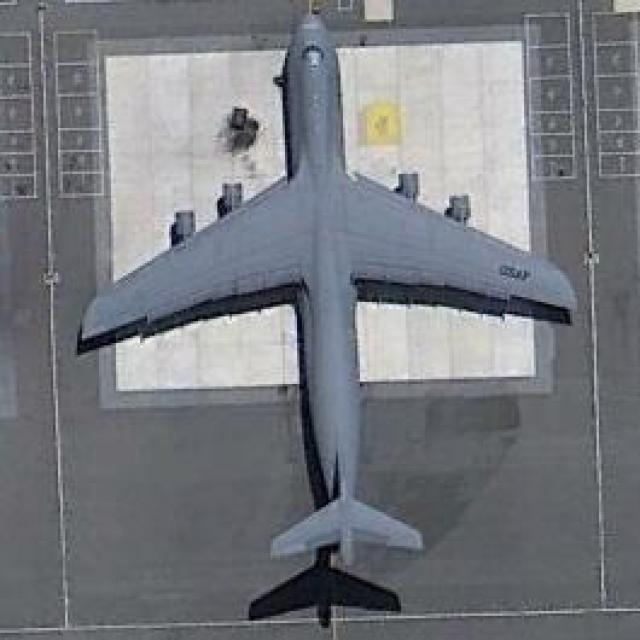C-5_TopDown: (72, 2, 578, 626)
